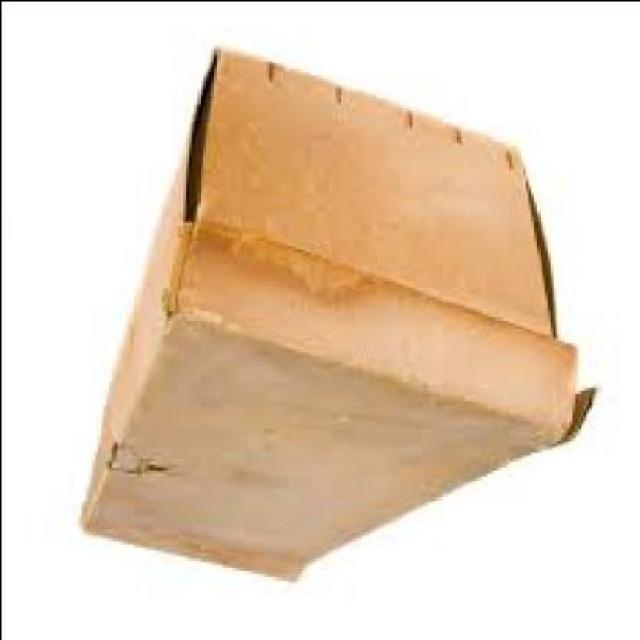CARDBOARD: (75, 39, 593, 583)
